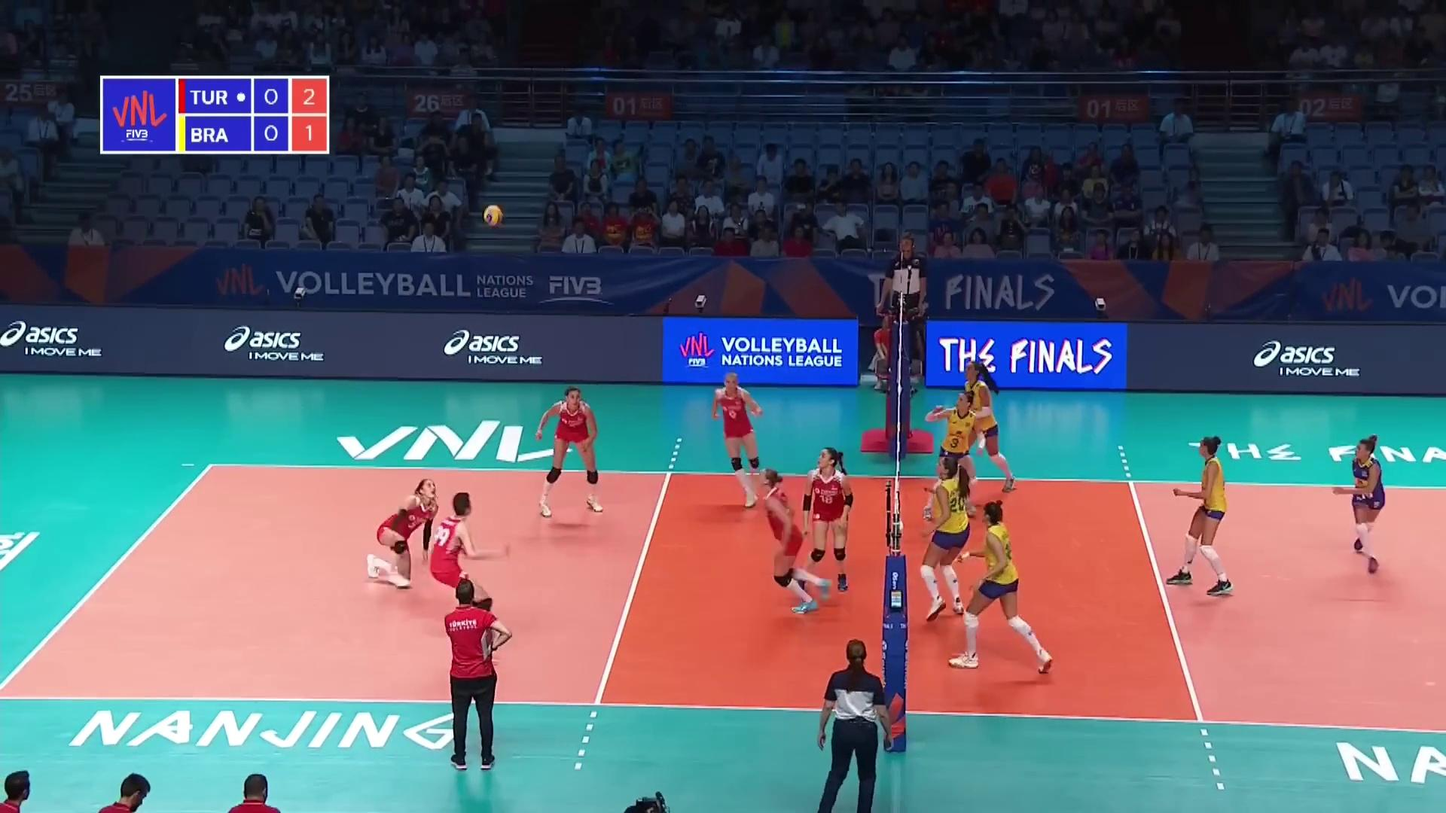player: (952, 499, 1053, 675), (430, 491, 509, 639), (754, 467, 832, 611), (1164, 436, 1233, 595), (536, 386, 606, 518), (793, 445, 853, 597), (947, 360, 1015, 490), (1334, 436, 1390, 575), (925, 394, 987, 519), (925, 456, 970, 627), (366, 481, 437, 588), (711, 370, 765, 509)
refree: (821, 637, 888, 813), (879, 232, 928, 359)
